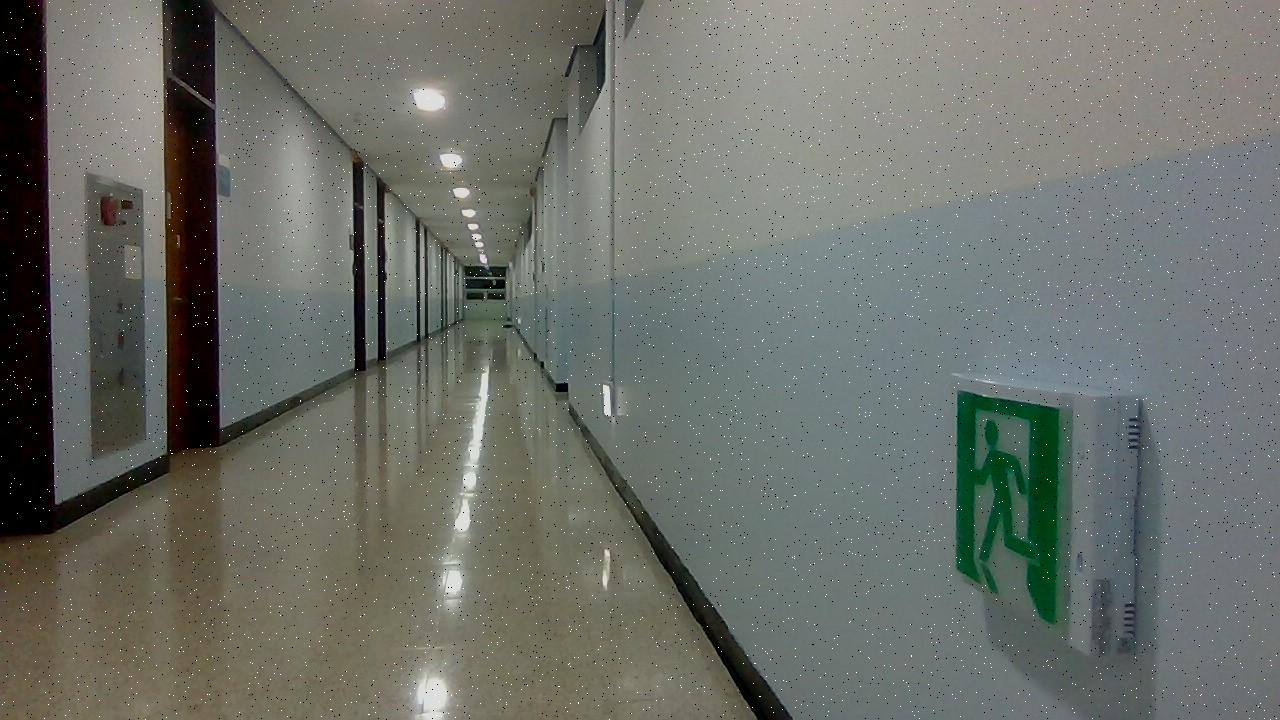emergency_exit: (952, 376, 1143, 658), (954, 387, 1065, 625)
